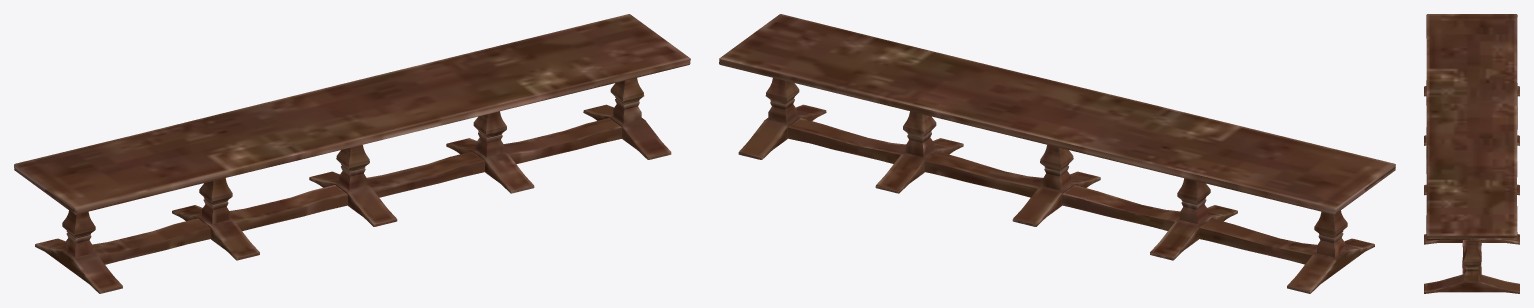
Rendered from table.glb.
3 views of the same model, side by side, from view 1: azimuth 30°, elevation 25°; view 2: azimuth 150°, elevation 25°; view 3: azimuth 270°, elevation 25° (orthographic). The views are drawn at different scales.
Parts seen in each view (by area): view 1: table_table_0; view 2: table_table_0; view 3: table_table_0.
Boxes of the visible parts, <box> form: table_table_0: <box>14,14,690,293</box>; table_table_0: <box>719,14,1395,293</box>; table_table_0: <box>1424,14,1519,293</box>.
Bounding box in the file's own units: 5.24 × 0.7299 × 0.9564.
1 material, 1 textured.
